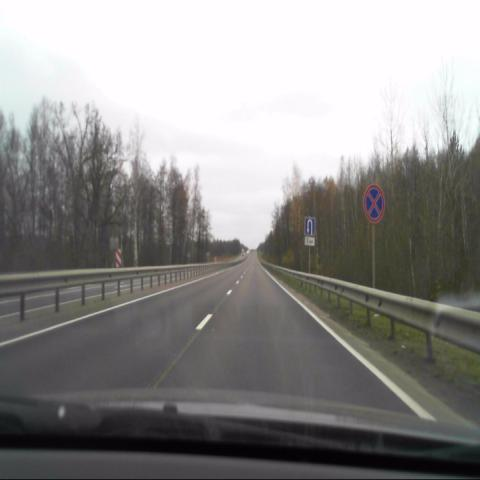3_27: (363, 183, 385, 223)
6_3_1: (304, 215, 316, 236)
